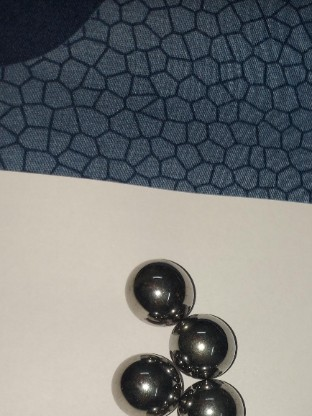ironball: (169, 310, 242, 383), (103, 346, 180, 413), (126, 253, 194, 325), (172, 375, 244, 413)
